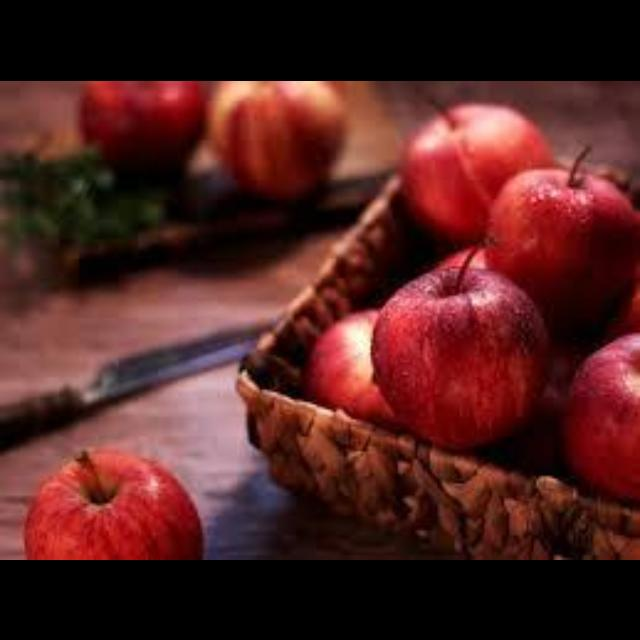apple: (371, 248, 544, 448), (484, 162, 638, 330), (400, 102, 551, 246), (27, 448, 203, 557), (208, 80, 346, 199), (563, 332, 638, 498), (79, 80, 203, 171), (301, 310, 395, 423)
